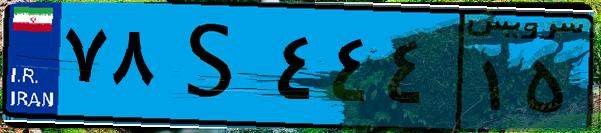1: (475, 38, 525, 113)
4: (270, 28, 330, 110), (385, 28, 445, 110), (330, 28, 385, 110)
5: (525, 38, 570, 115)
7: (57, 26, 110, 100)
8: (110, 28, 158, 98)
S: (158, 12, 270, 120)
